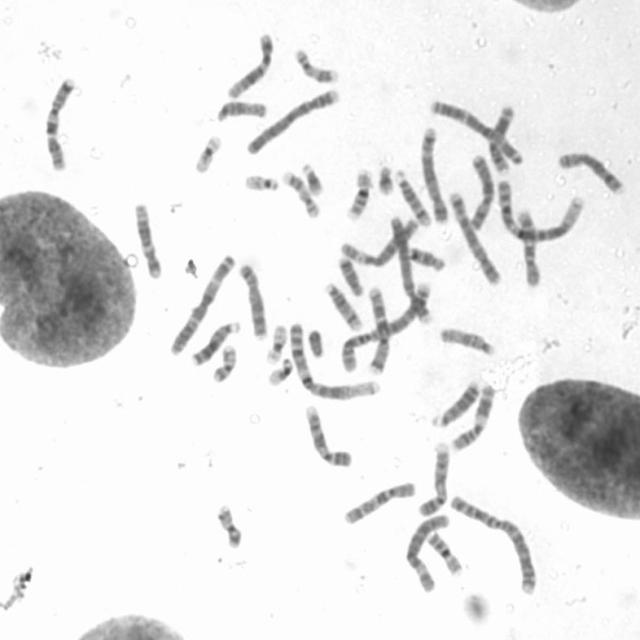A1: (288, 321, 380, 402), (495, 178, 586, 244)
A2: (448, 494, 538, 596), (340, 281, 431, 373)
A3: (169, 253, 237, 357), (428, 99, 524, 166)
B4: (246, 88, 340, 155), (388, 216, 433, 326)
B5: (448, 191, 503, 286), (420, 125, 450, 222)
C10: (341, 480, 417, 526), (515, 210, 545, 288)
C11: (450, 384, 497, 453), (488, 105, 517, 174)
C12: (226, 32, 274, 101), (132, 203, 162, 280)
C6: (341, 218, 418, 268), (404, 513, 451, 592)
C7: (42, 76, 78, 172), (368, 282, 390, 374)
C8: (557, 149, 624, 197), (238, 264, 268, 340)
C9: (303, 403, 353, 468), (416, 441, 450, 516)
D13: (430, 378, 480, 428), (191, 321, 241, 366)
D14: (393, 168, 433, 227), (324, 281, 364, 330)
D15: (438, 326, 496, 357), (213, 100, 267, 124)
E16: (426, 531, 464, 576), (345, 166, 373, 223)
E17: (280, 170, 321, 220), (294, 48, 340, 84)
E18: (336, 257, 366, 298), (408, 245, 445, 274)
F19: (192, 132, 222, 175), (265, 324, 289, 366)
F20: (215, 504, 243, 549), (211, 344, 237, 384)
G21: (300, 162, 326, 197), (376, 162, 393, 197)
G22: (266, 358, 293, 387), (243, 173, 280, 193)
X: (467, 154, 497, 230)
Y: (307, 329, 325, 359)
